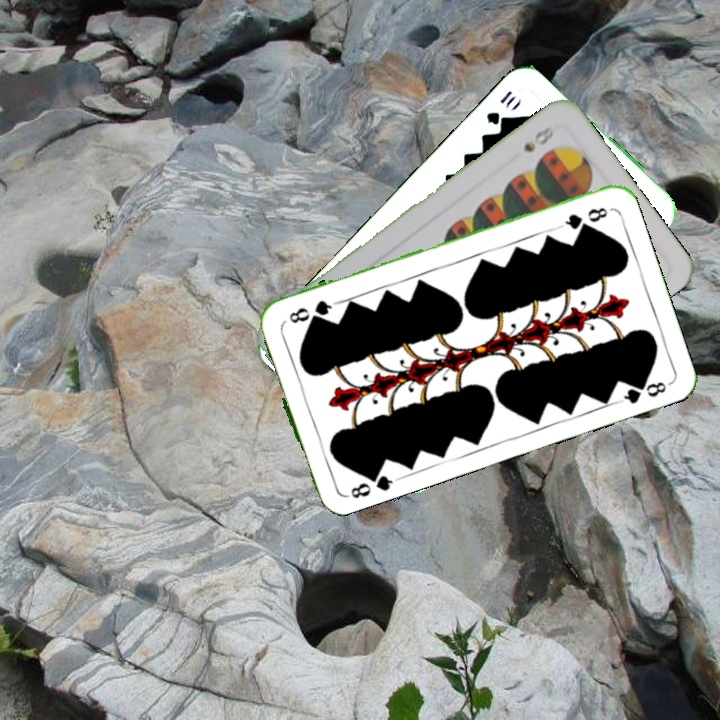G10: (482, 86, 518, 128)
G8: (341, 465, 396, 501), (555, 203, 611, 232)
S8: (519, 122, 557, 155)
